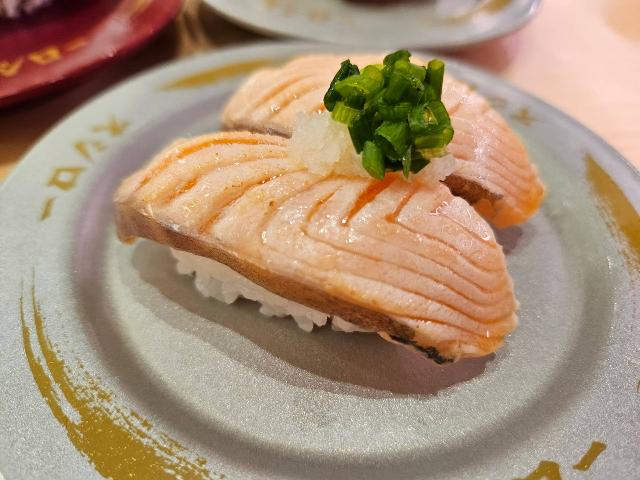janred: (0, 0, 161, 80)
janwhite: (0, 73, 639, 480), (205, 0, 531, 47)
